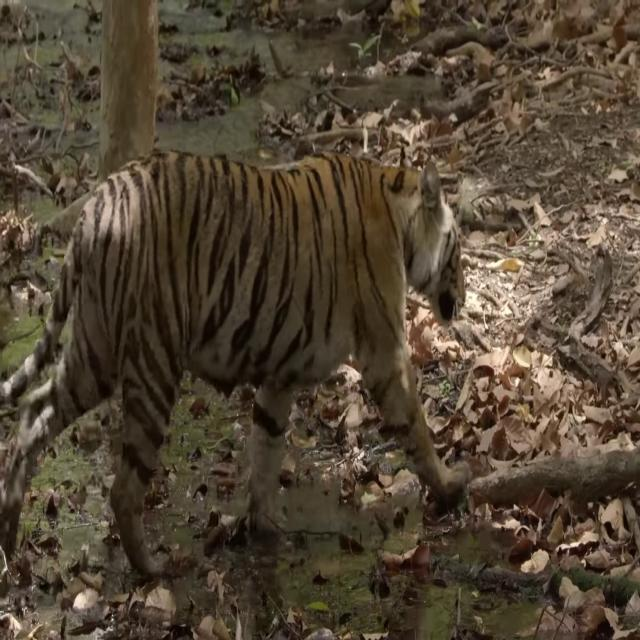tiger: (2, 151, 470, 597)
